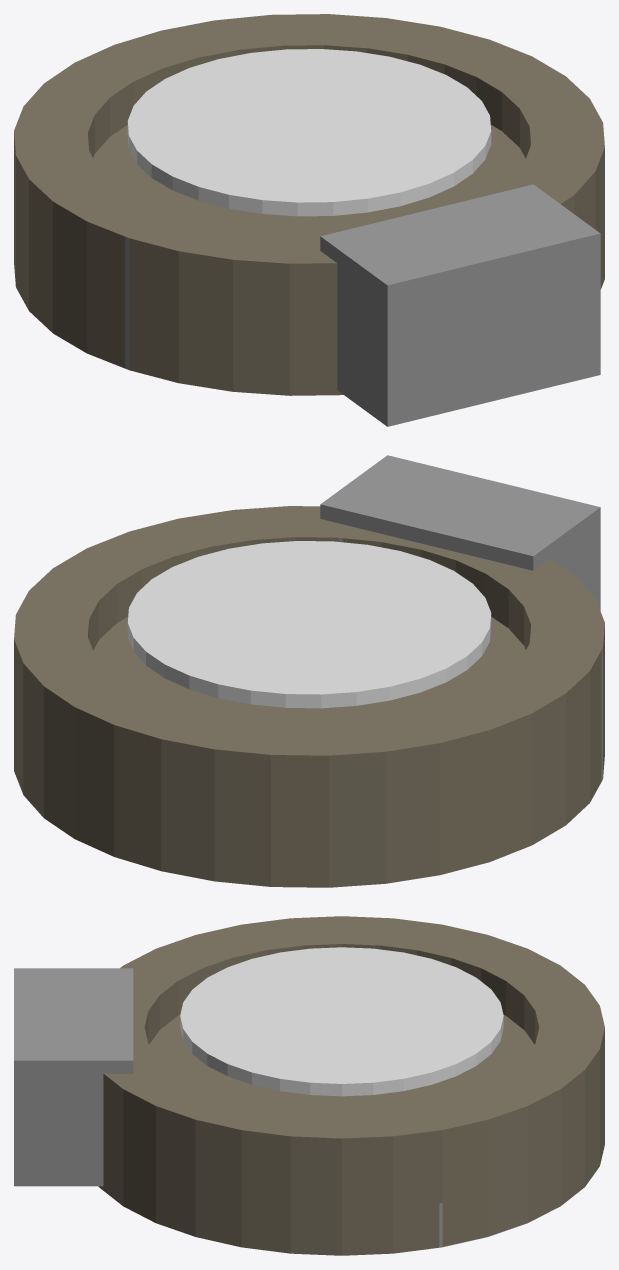
The model's file is jumper.fbx.
The picture shows the model from 3 angles, top to bottom: view 1: azimuth 30°, elevation 25°; view 2: azimuth 150°, elevation 25°; view 3: azimuth 270°, elevation 25°; orthographic projection. The views are drawn at different scales.
Visible parts, largest first — view 1: jumper, energy; view 2: jumper, energy; view 3: jumper, energy.
Boxes of the visible parts, x1,y1,x2,y2 form: jumper: (14, 14, 604, 426); energy: (127, 49, 491, 216); jumper: (14, 455, 604, 887); energy: (127, 541, 491, 708); jumper: (14, 916, 604, 1255); energy: (180, 947, 503, 1096).
Bounding box in the file's own units: 200 × 54.63 × 225.
